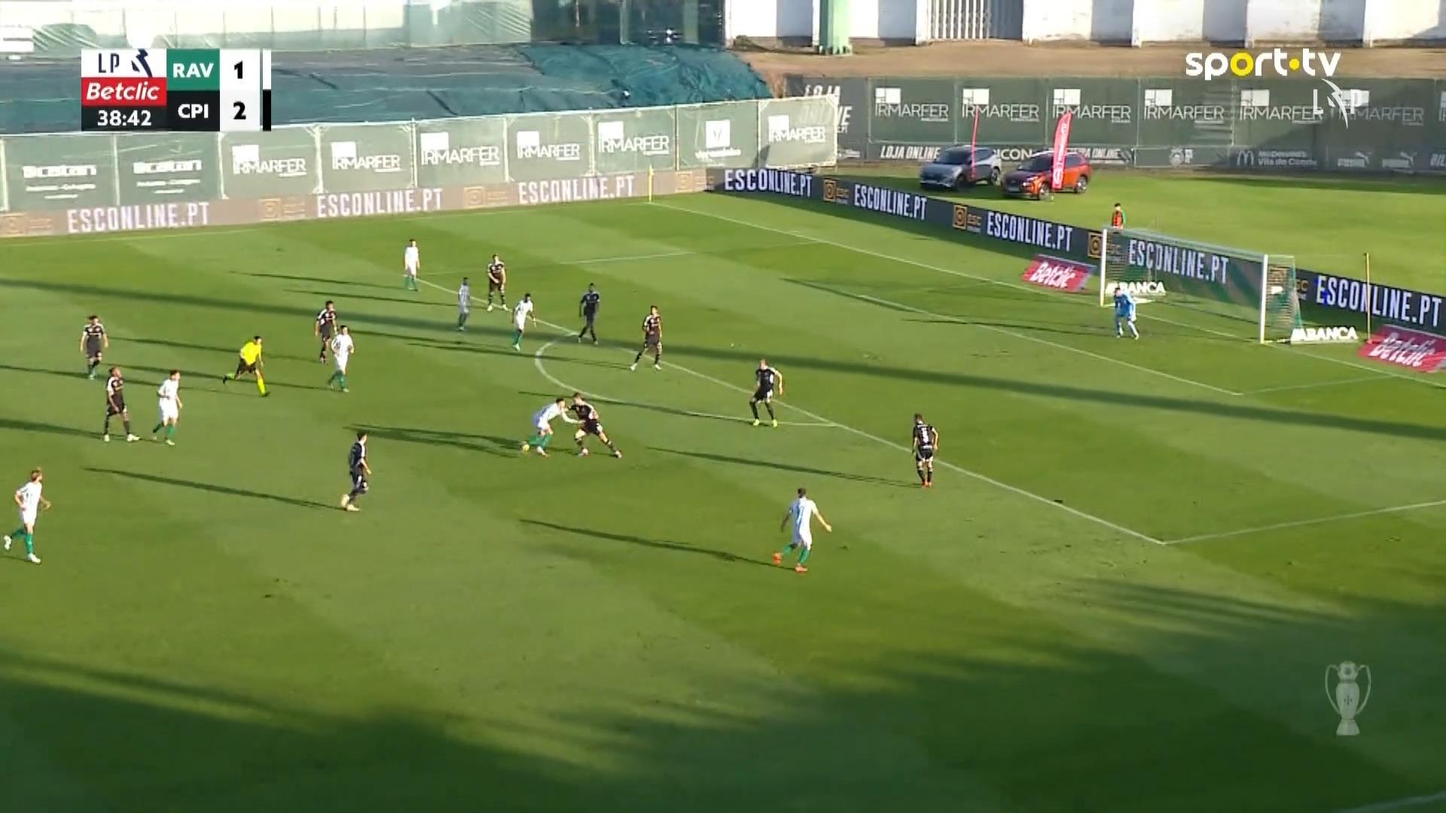goalkeeper: (1110, 285, 1139, 339)
player: (771, 486, 831, 573), (2, 467, 51, 564), (562, 391, 622, 458), (519, 395, 569, 457), (102, 365, 139, 442), (150, 368, 183, 446), (340, 430, 371, 511), (748, 358, 783, 427), (629, 305, 664, 371), (911, 413, 938, 487), (78, 313, 108, 379), (326, 324, 354, 392), (313, 300, 338, 364), (575, 282, 600, 345), (510, 292, 536, 351), (485, 252, 508, 312), (402, 238, 420, 291), (455, 276, 471, 331)
referee: (221, 334, 270, 397)
